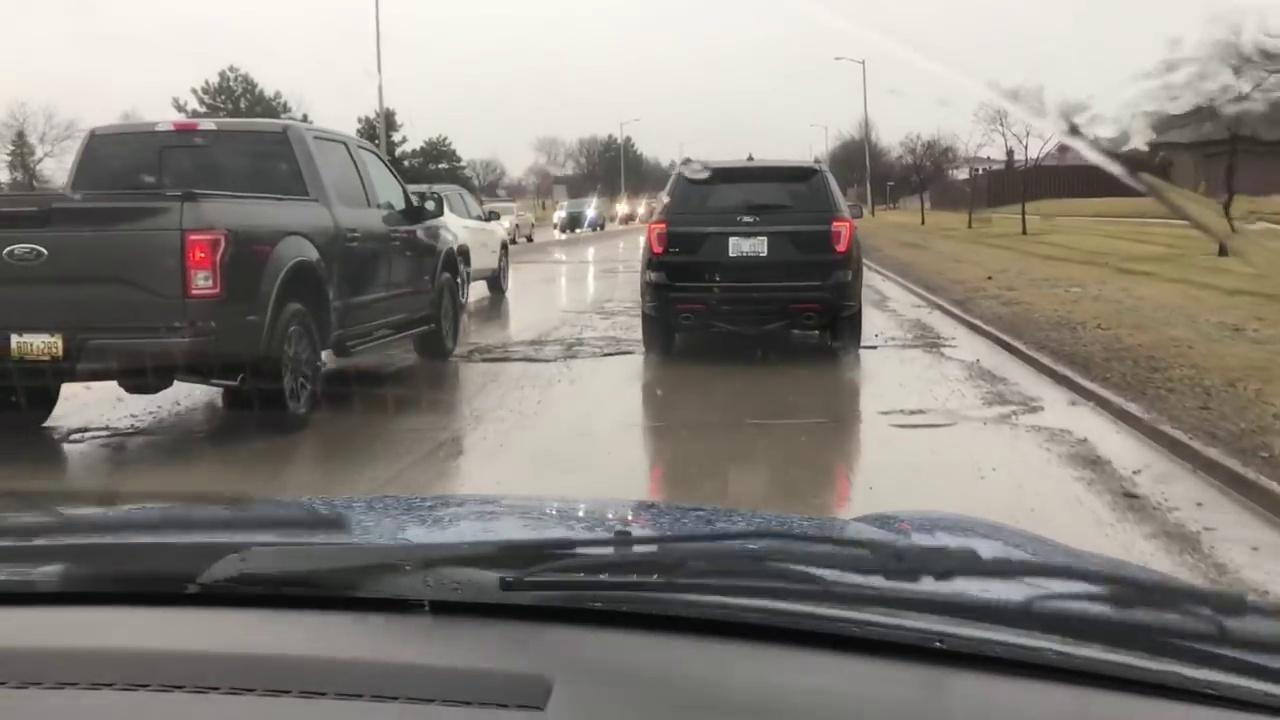pothole: (55, 425, 144, 443), (890, 420, 957, 428), (878, 408, 927, 416), (601, 350, 635, 357), (860, 344, 878, 349)
